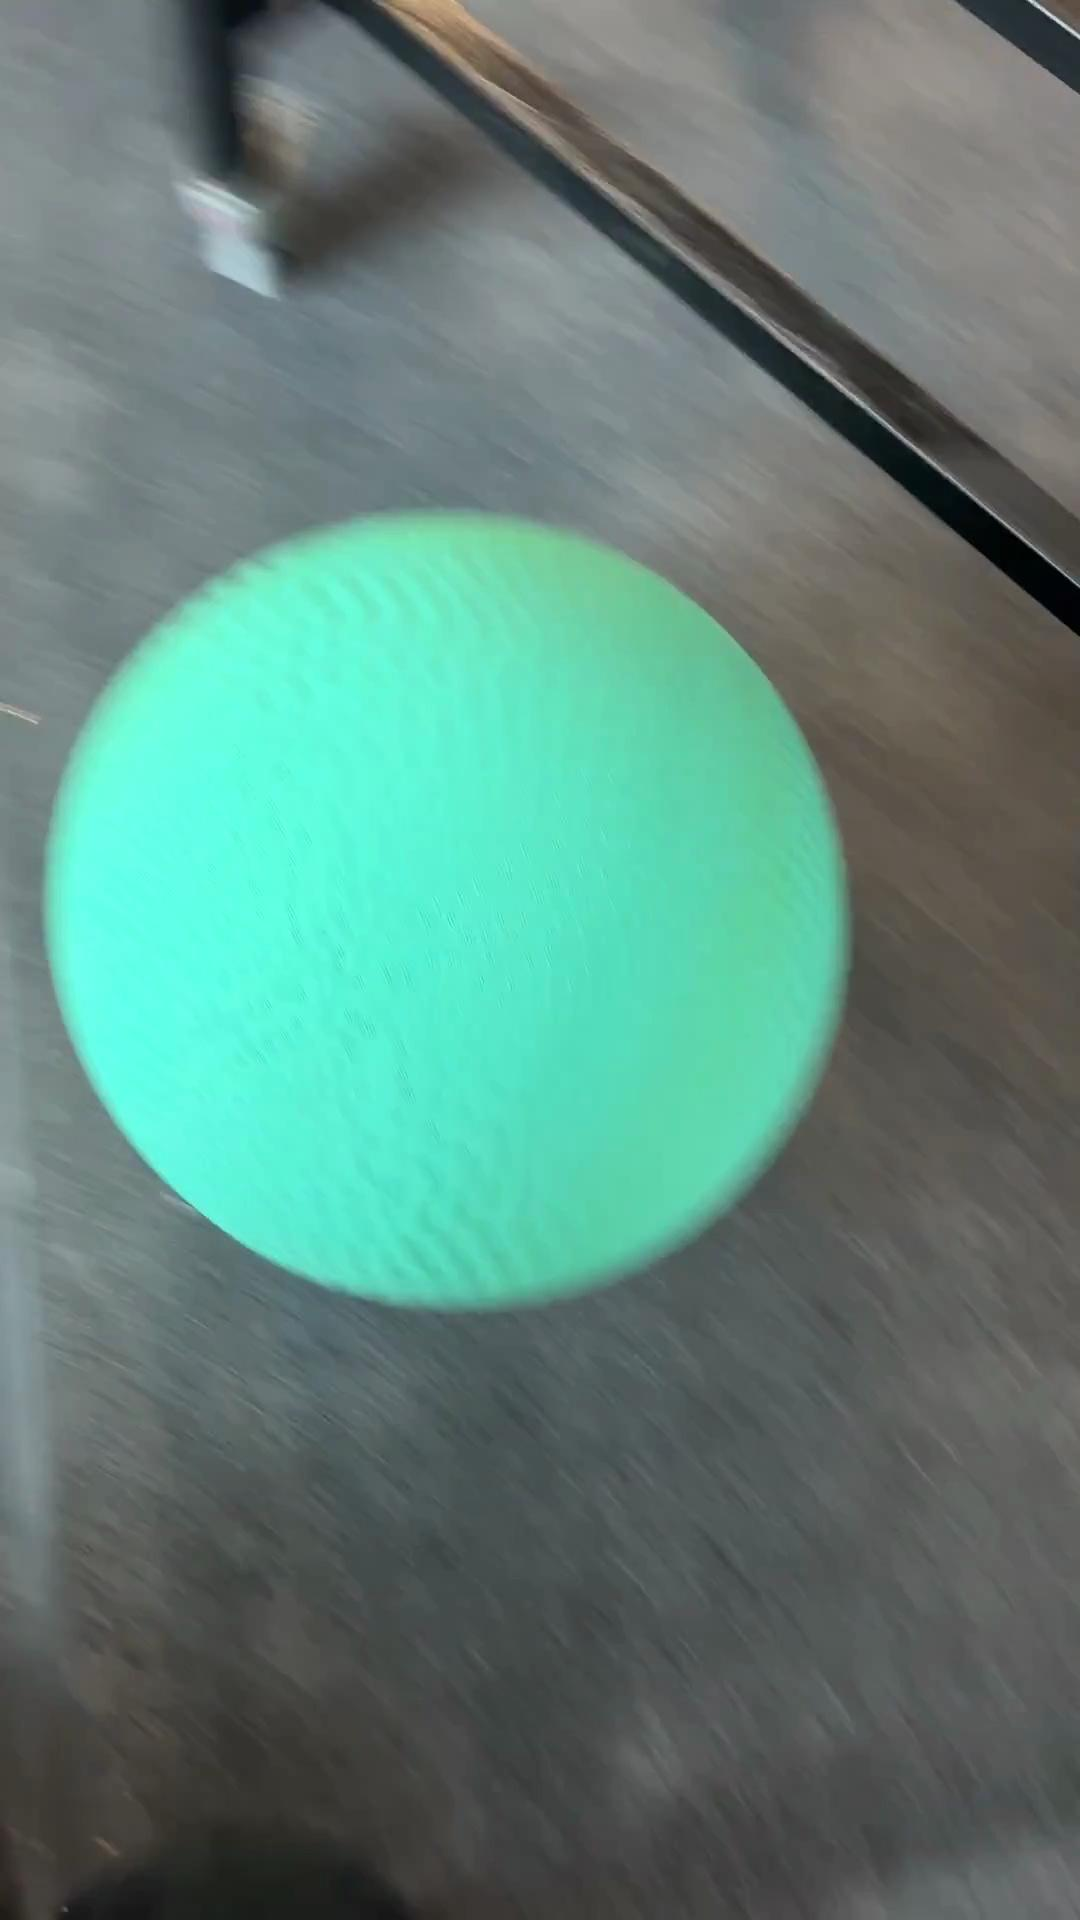ALGAE: (40, 505, 853, 1315)
